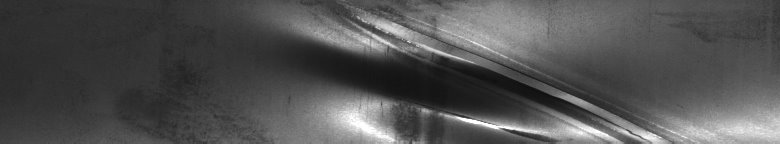ke: (313, 8, 668, 136)
